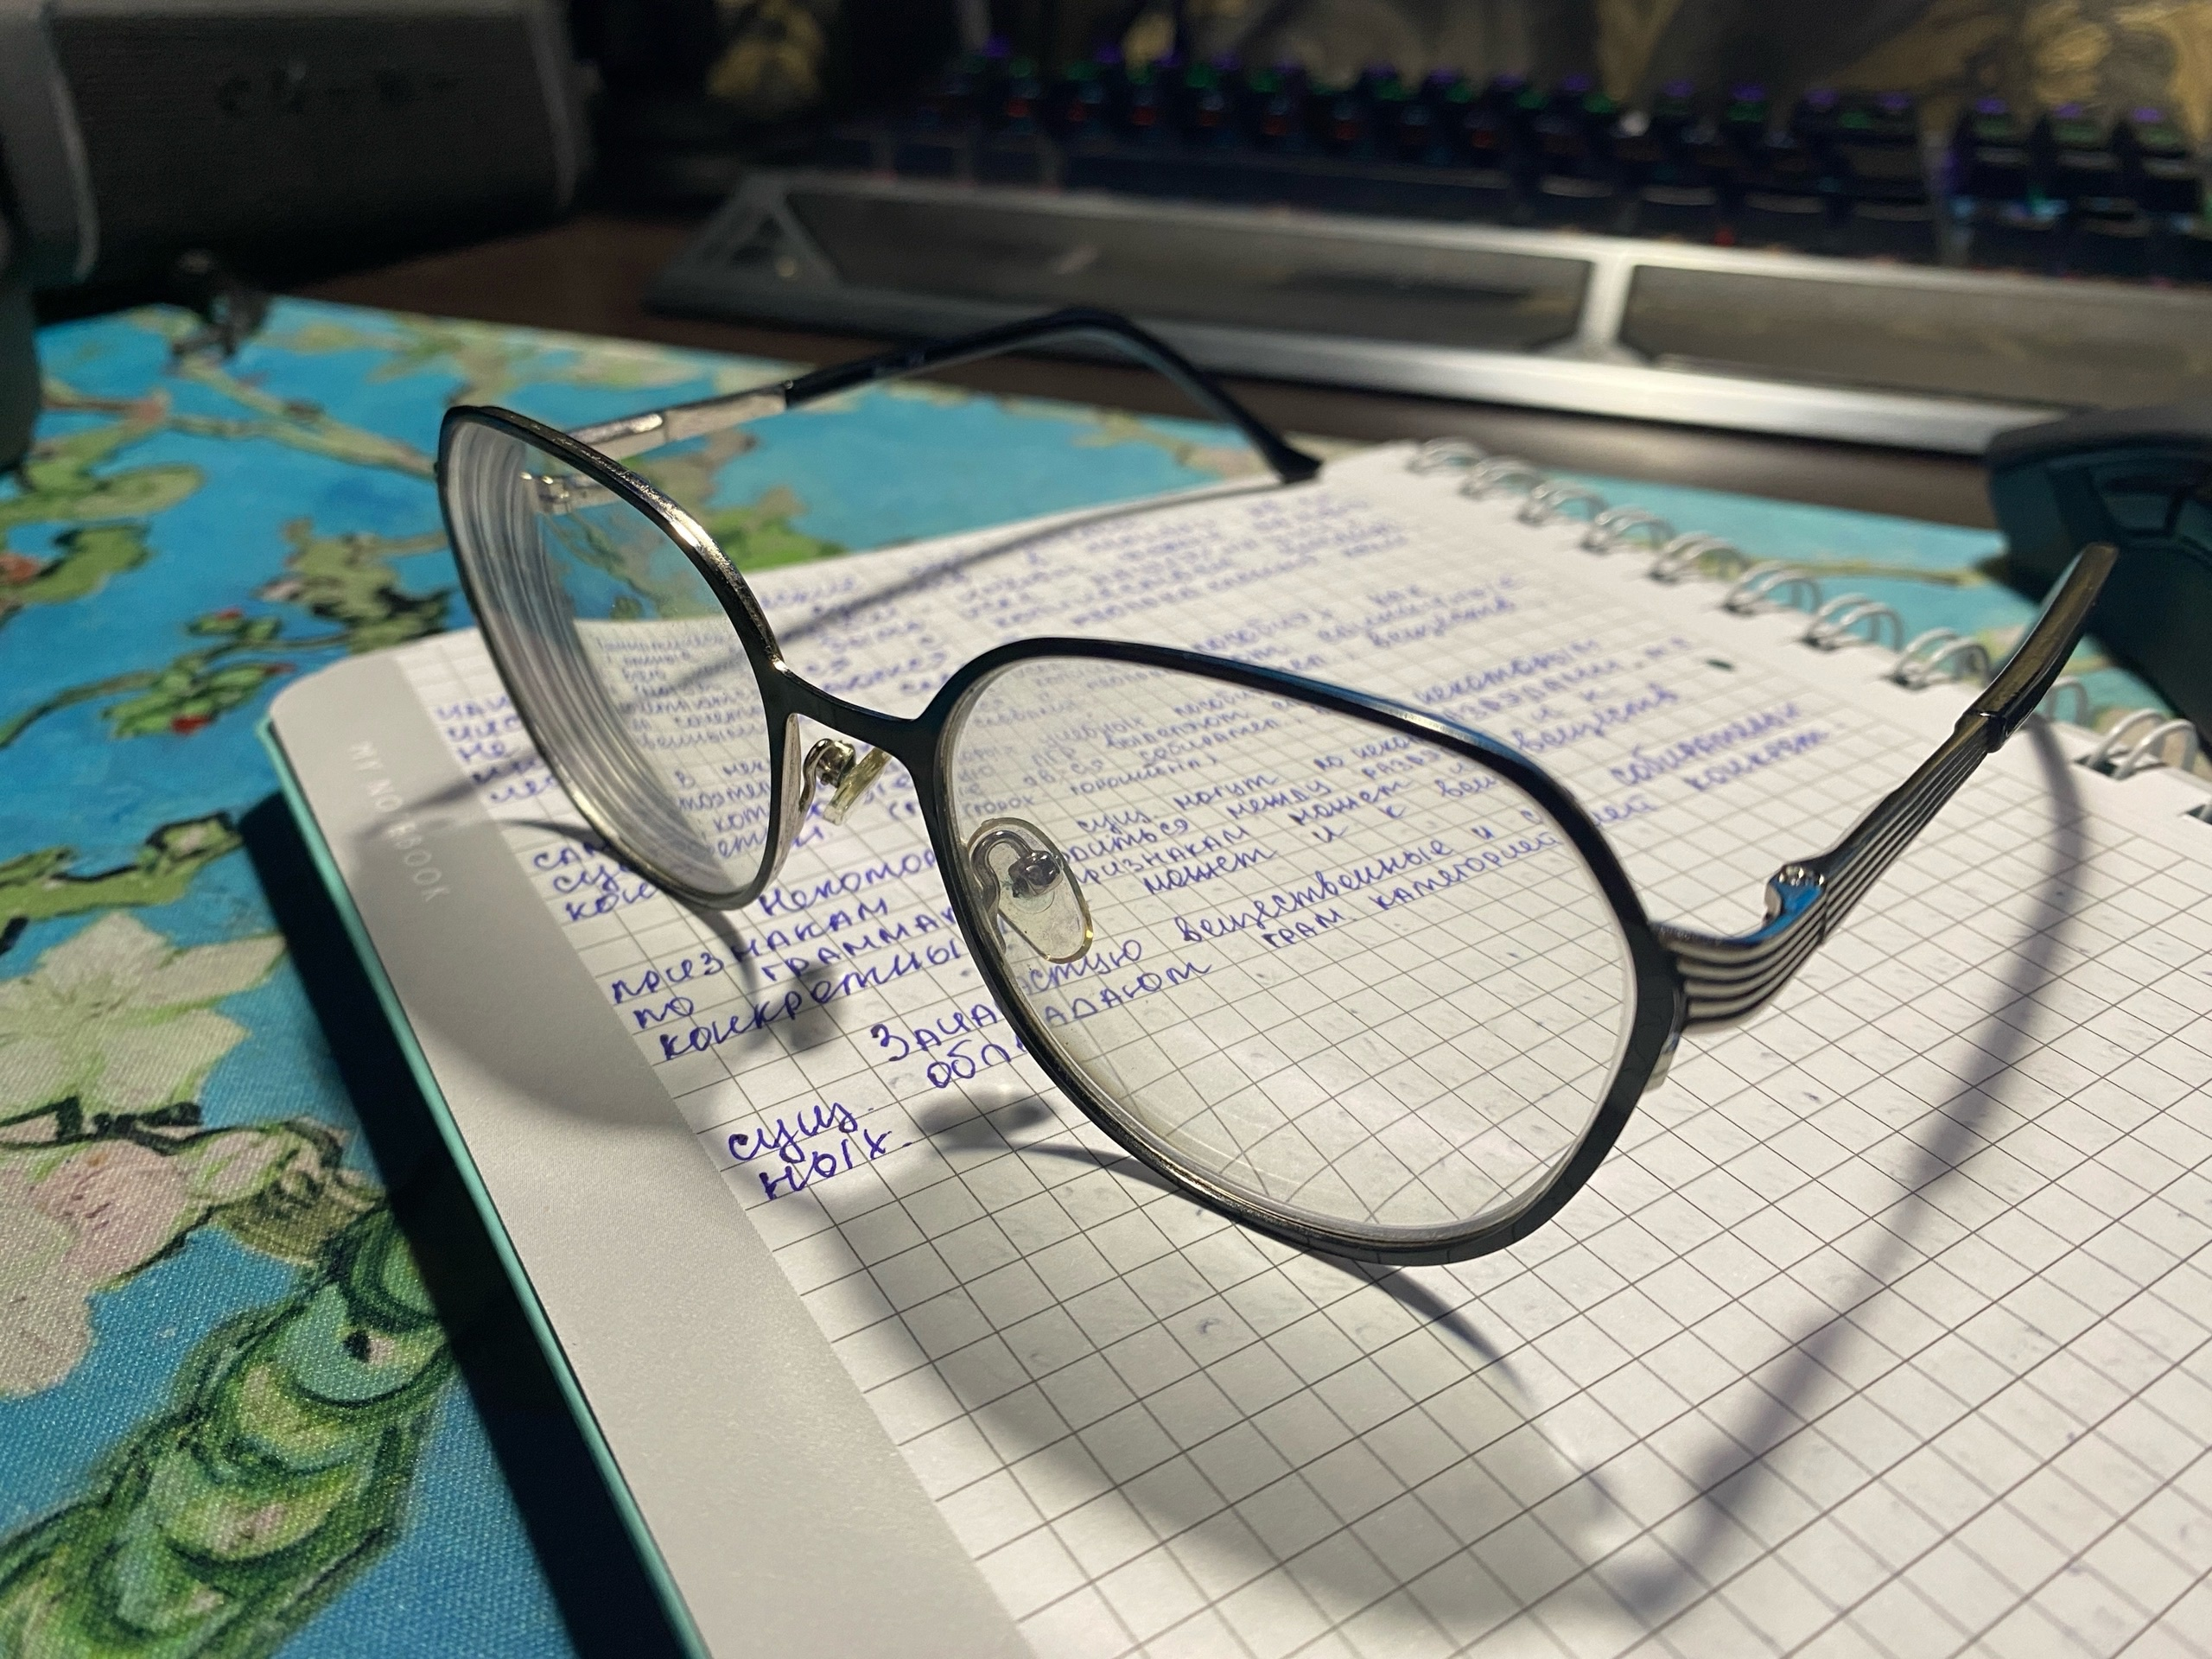glasses: (439, 310, 2114, 1263)
